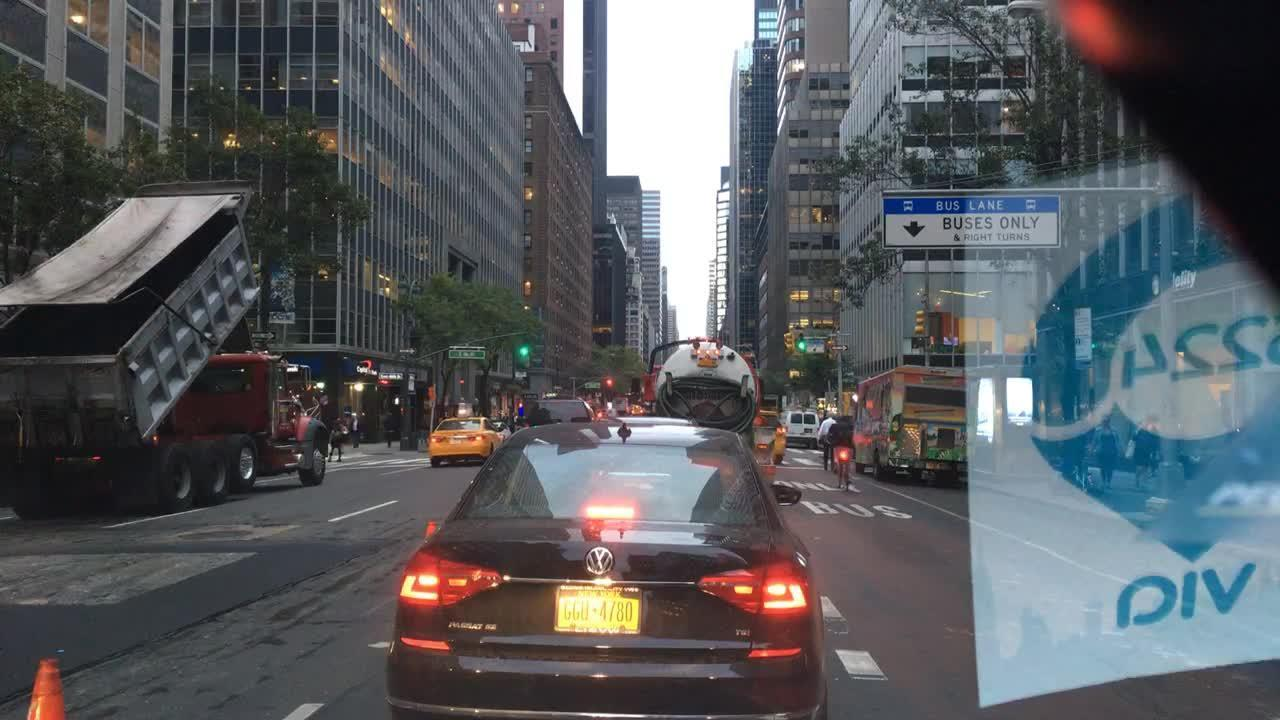Volkswagen: (577, 537, 621, 585)
